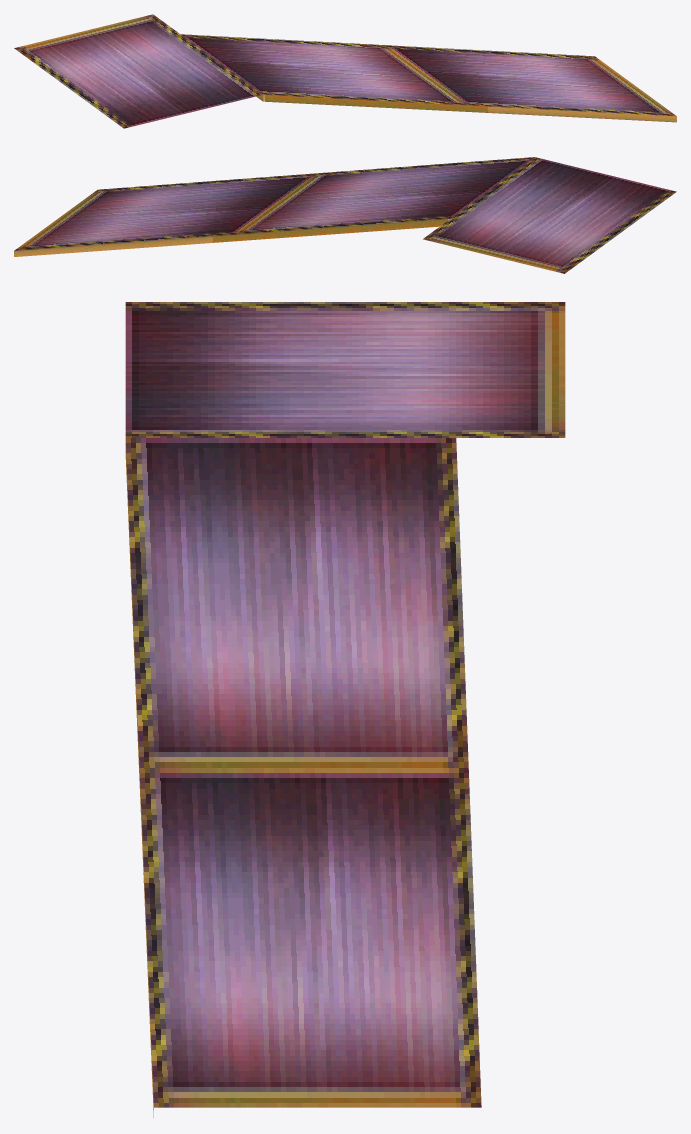
The model's file is Ramplast.glb.
3 views of the same model, one above another, from view 1: azimuth 30°, elevation 25°; view 2: azimuth 150°, elevation 25°; view 3: azimuth 270°, elevation 25° (orthographic). The views are drawn at different scales.
Parts seen in each view (by area): view 1: Ramplast; view 2: Ramplast; view 3: Ramplast.
Boxes of the visible parts, box(x1,y1,x2,y2) form: Ramplast: box(14, 14, 676, 128); Ramplast: box(14, 157, 676, 273); Ramplast: box(125, 302, 565, 1117).
Bounding box in the file's own units: 5153 × 1192 × 1753.
2 materials, 2 textured.
